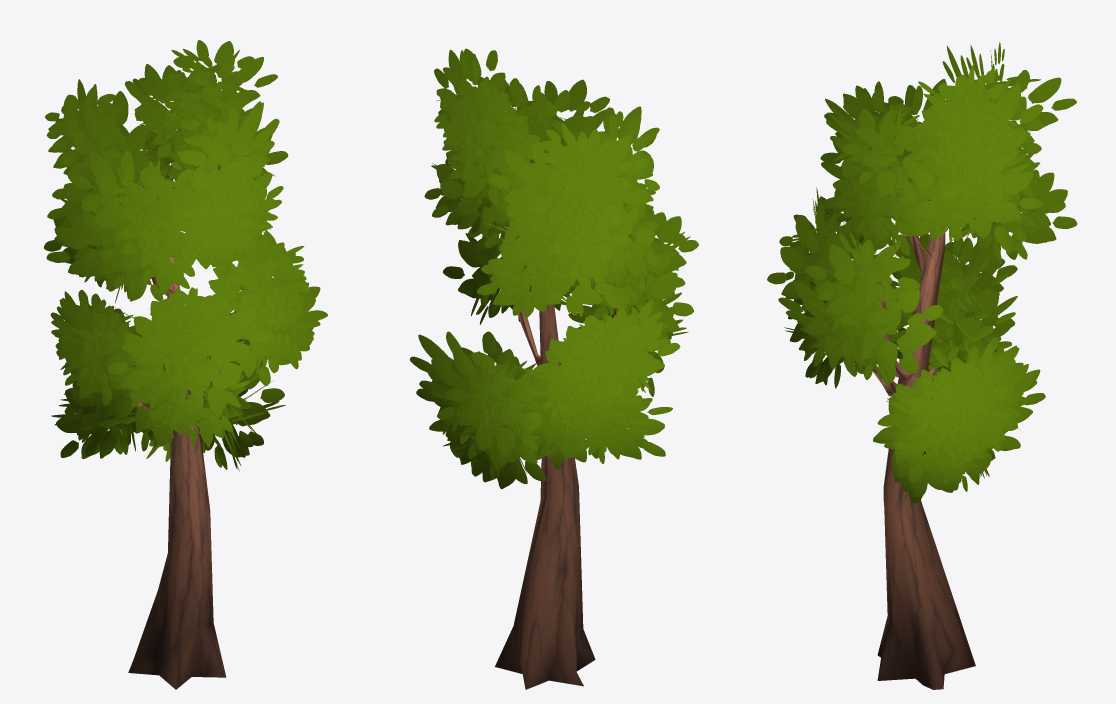
The model's file is commontree_3_1.glb.
3 renders of one model, left to right at view 1: azimuth 30°, elevation 25°; view 2: azimuth 150°, elevation 25°; view 3: azimuth 270°, elevation 25°, orthographic. The views are drawn at different scales.
Parts seen in each view (by area): view 1: CommonTree_3; view 2: CommonTree_3; view 3: CommonTree_3.
Part boxes in pixels (x1,y1,x2,y2): CommonTree_3: (44,40,327,689); CommonTree_3: (410,48,698,689); CommonTree_3: (767,42,1077,689).
Size of the model in its own units: 4.57 by 9.72 by 4.79.
2 materials, 2 textured.
